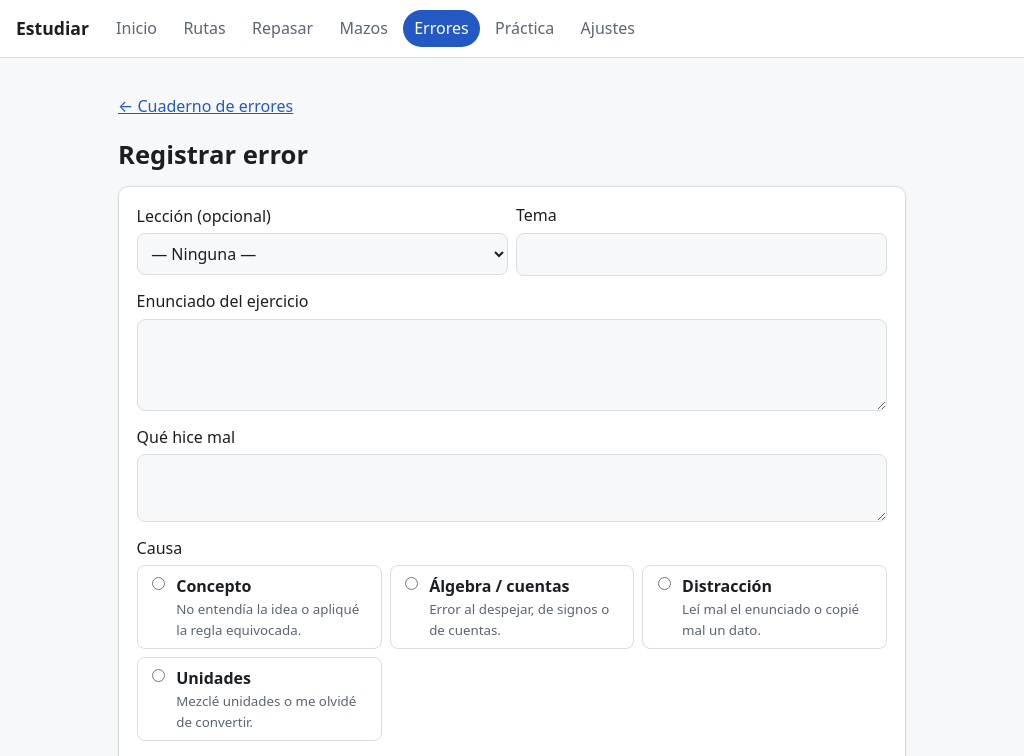
Test: cuaderno de errores › no guarda si falta la causa
In the field labelled "Tema": (702, 254) [516,233,887,276], type "Física"
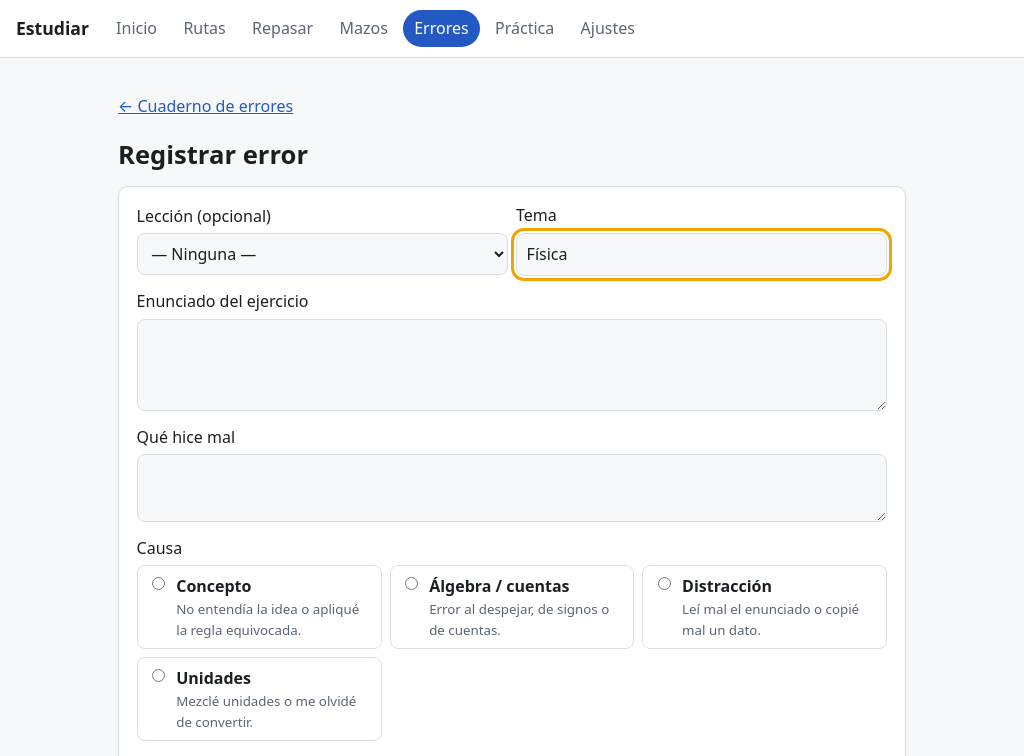
In the text box labelled "Enunciado del ejercicio": (512, 365) [137,319,887,411], type "a"
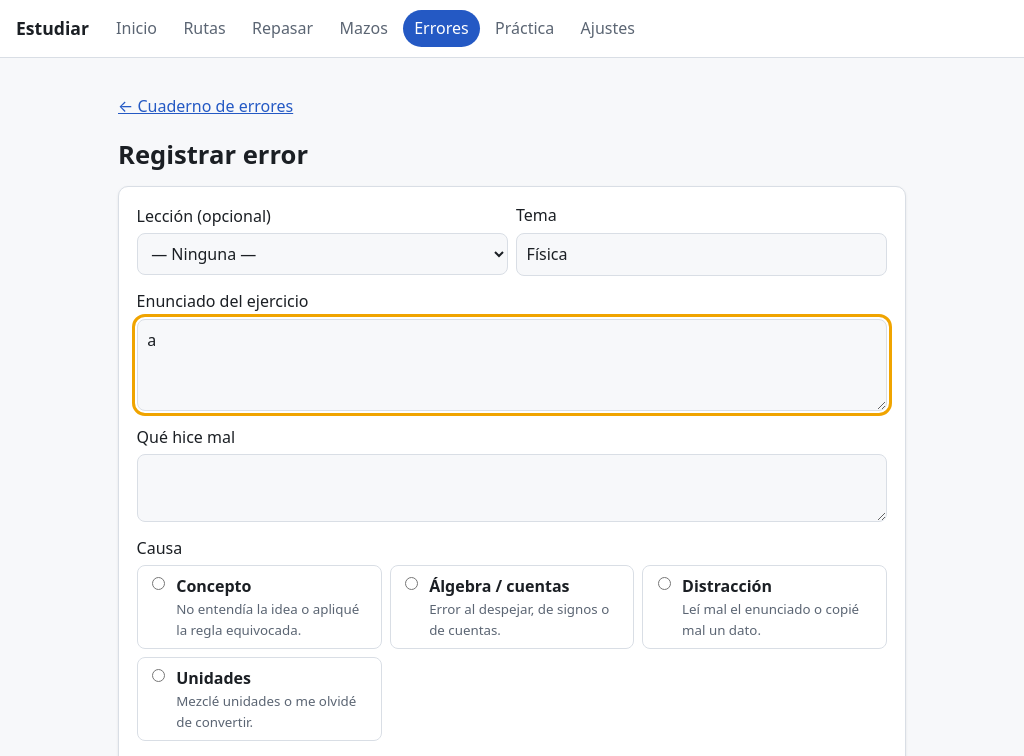
In the text box labelled "Qué hice mal": (512, 488) [137,454,887,522], type "b"
(page scrolled)
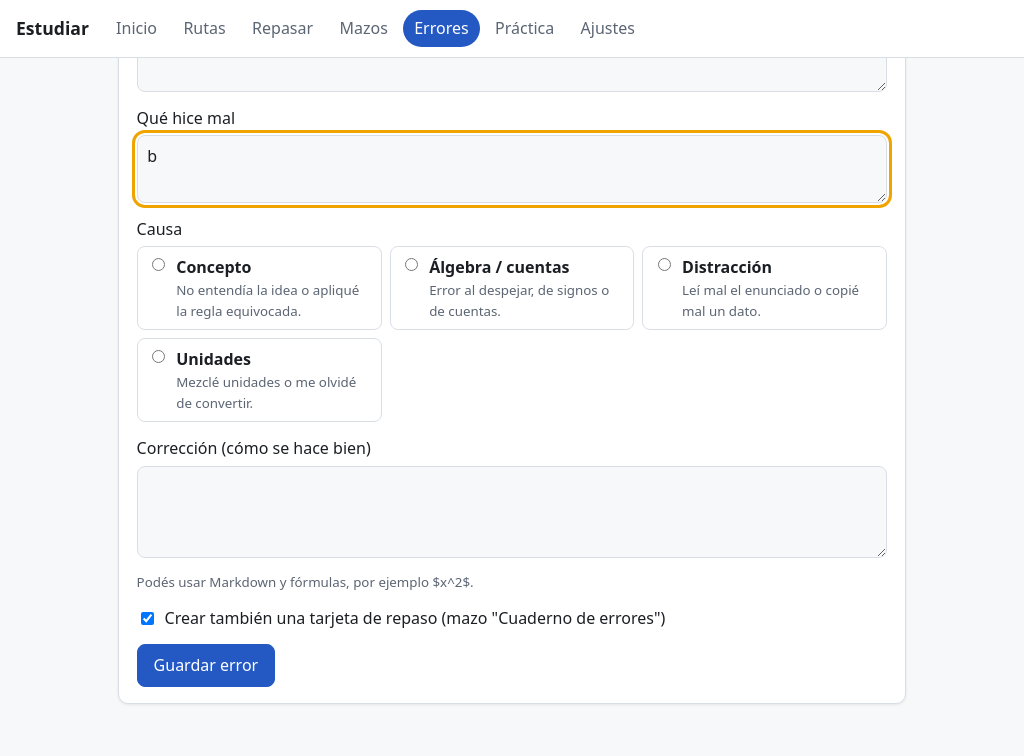
In the text box labelled "Corrección (cómo se hace bien)": (512, 512) [137,466,887,558], type "c"
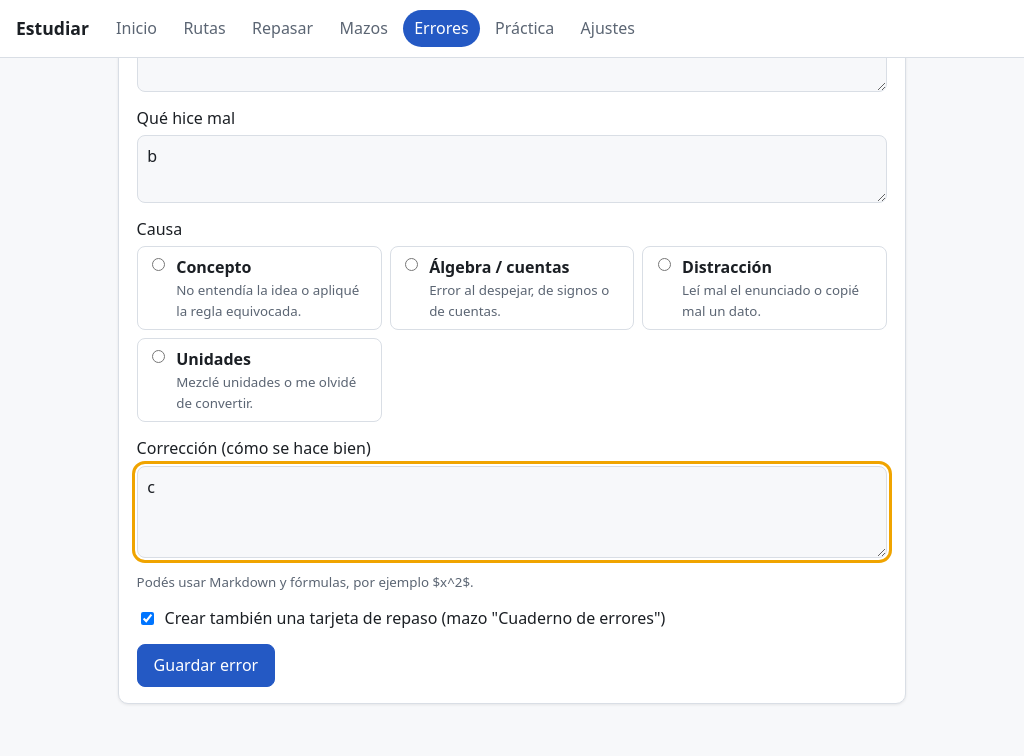
Click the button "Guardar error": (206, 666) [137,644,275,687]
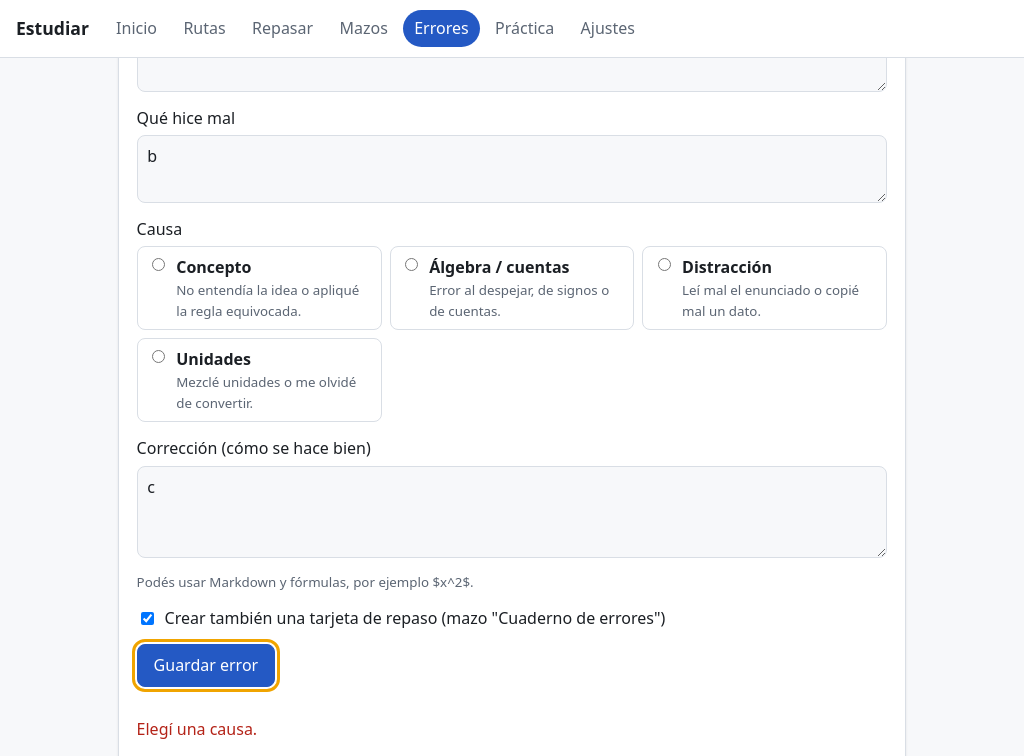
Check: the message shows "causa", box [137,718,257,740]
